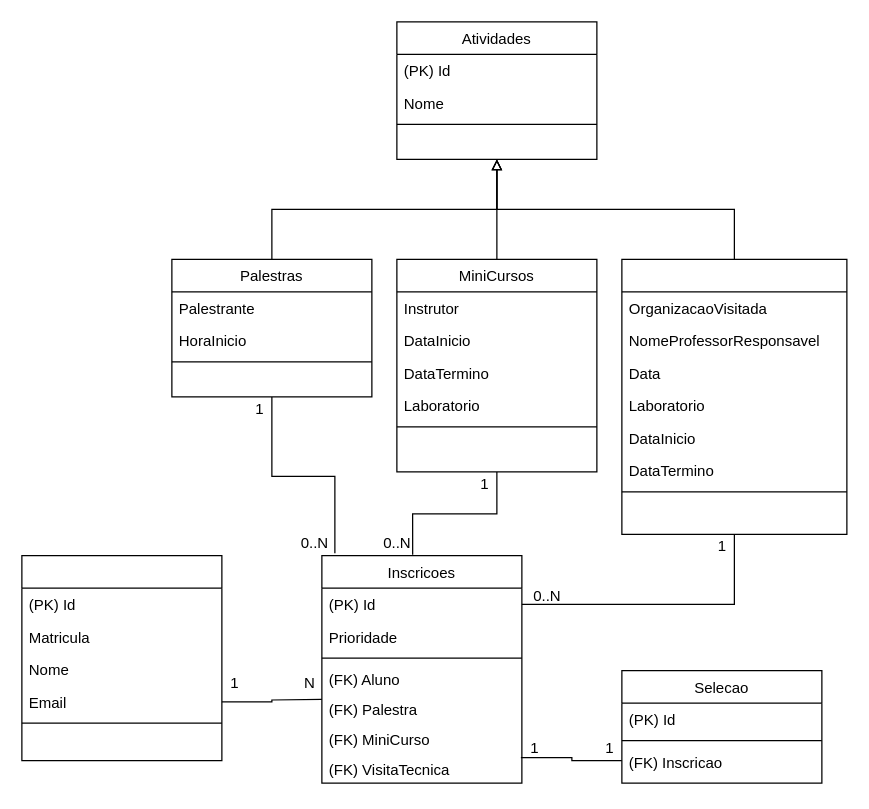
The diagram is 869 pixels wide and 809 high, and some of its shapes have lost their labels. The box of each missing label's shape, as (x1, y1, x2, y2) in pixels:
Alunos: (21, 554, 222, 761)
VisitasTecnicas: (621, 258, 847, 534)
